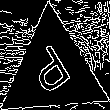P_SE: (26, 39, 80, 102)
